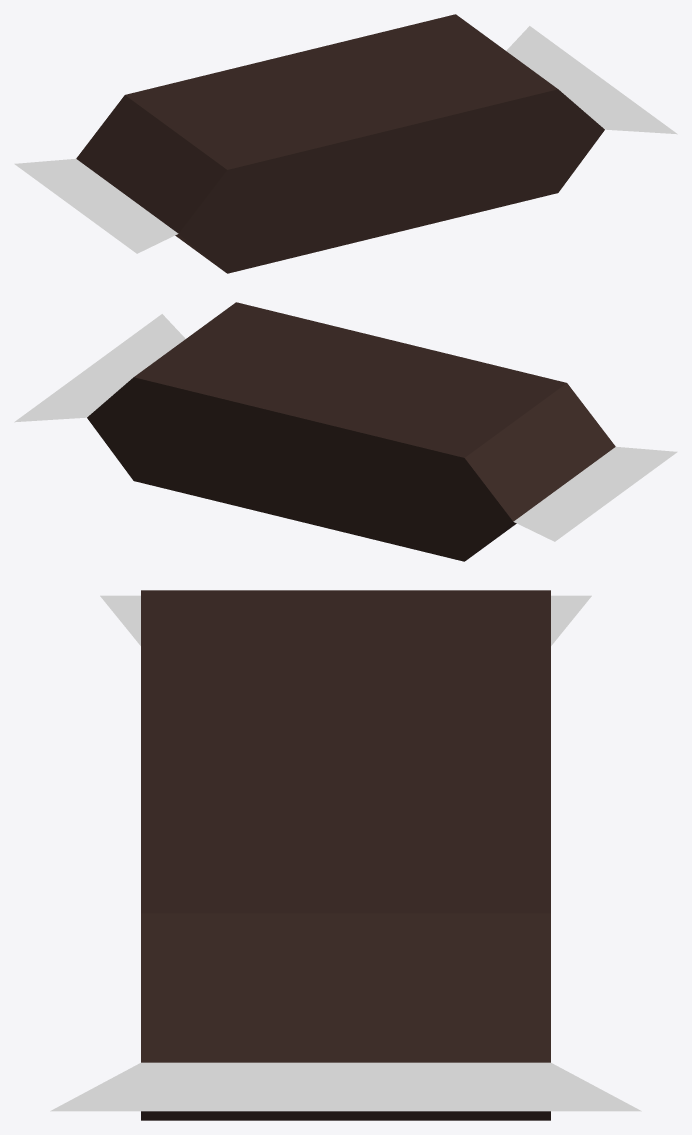
The model's file is i_chocobar.glb.
The picture shows the model from 3 angles, top to bottom: view 1: azimuth 30°, elevation 25°; view 2: azimuth 150°, elevation 25°; view 3: azimuth 270°, elevation 25°; orthographic projection. The views are drawn at different scales.
Parts seen in each view (by area): view 1: Cube; view 2: Cube; view 3: Cube.
Boxes of the visible parts, bbox=[...] form: Cube: bbox=[14, 14, 677, 273]; Cube: bbox=[14, 302, 677, 561]; Cube: bbox=[50, 590, 641, 1120].
Bounding box in the file's own units: 1.15 × 0.2159 × 0.5588.
